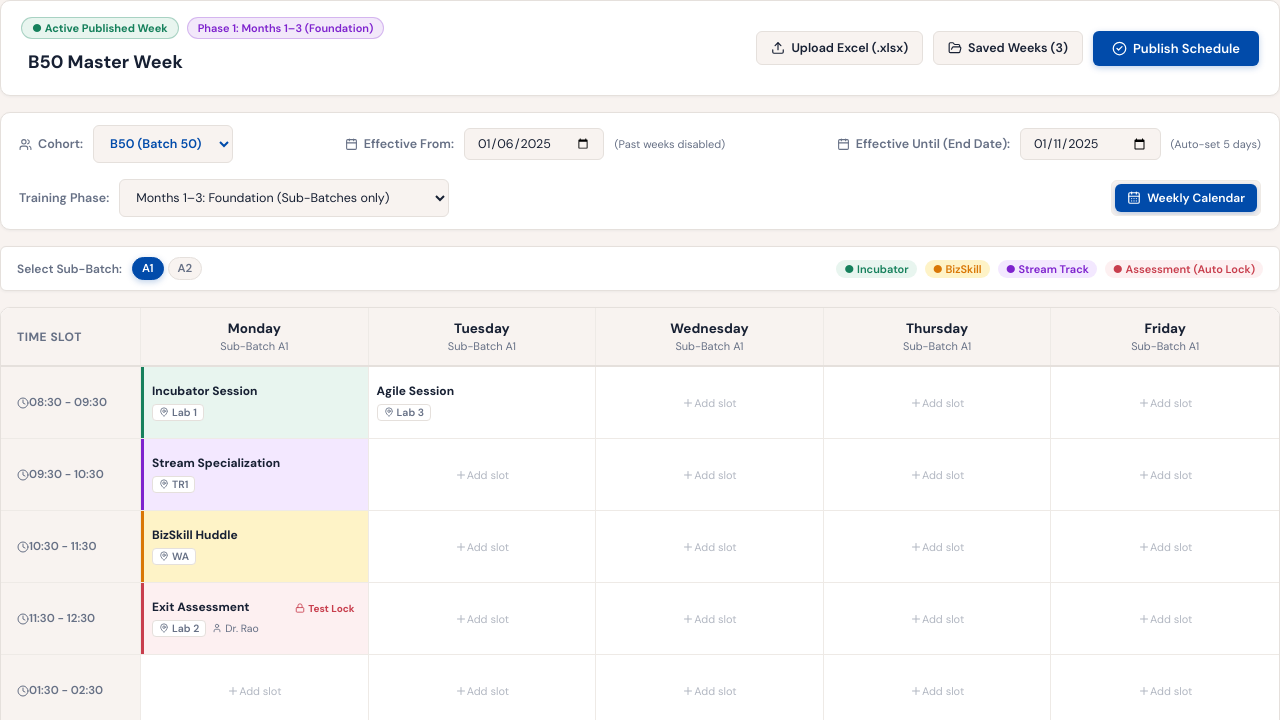
TimetableCalendarView - slot edit modal › closes the modal without changes when Cancel or the close icon is used
Expected: the field showing "B50 Master Week" is shown, [21,45,521,79]
Click the text "Incubator Session".
click(205, 392)  # box [152,384,258,400]
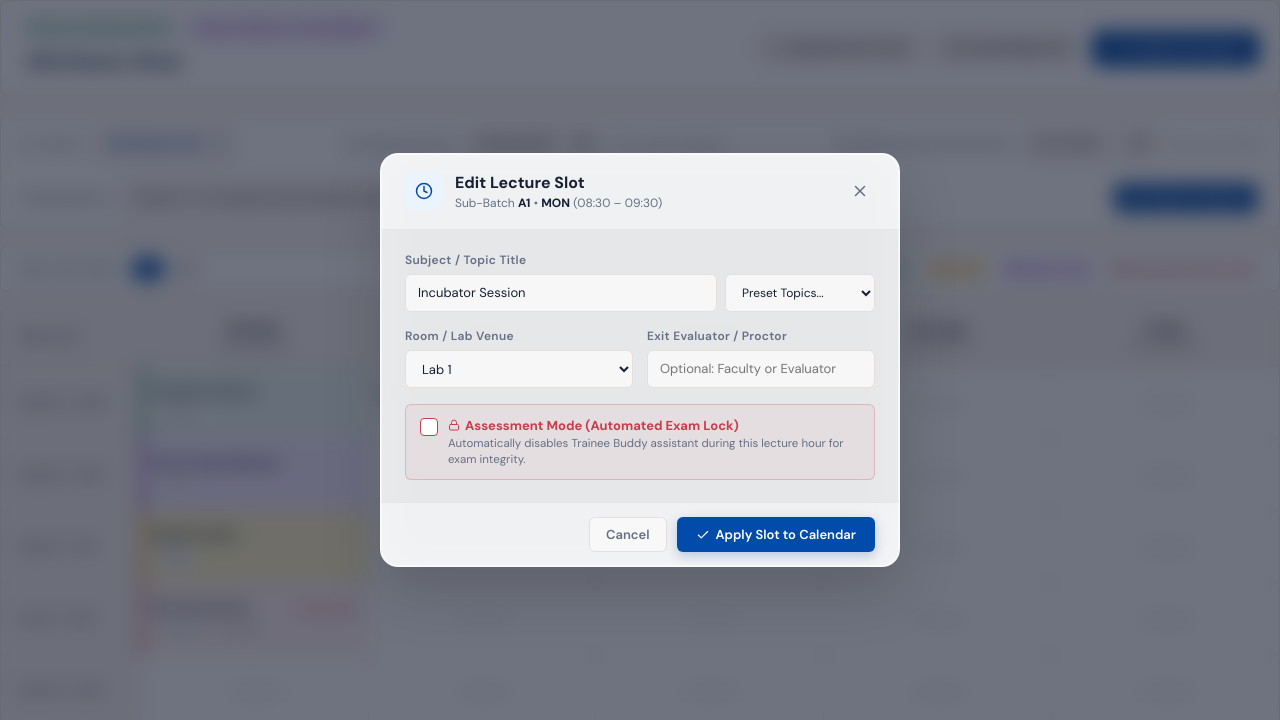
Click the button "Cancel".
click(628, 534)  # box [589,517,666,552]
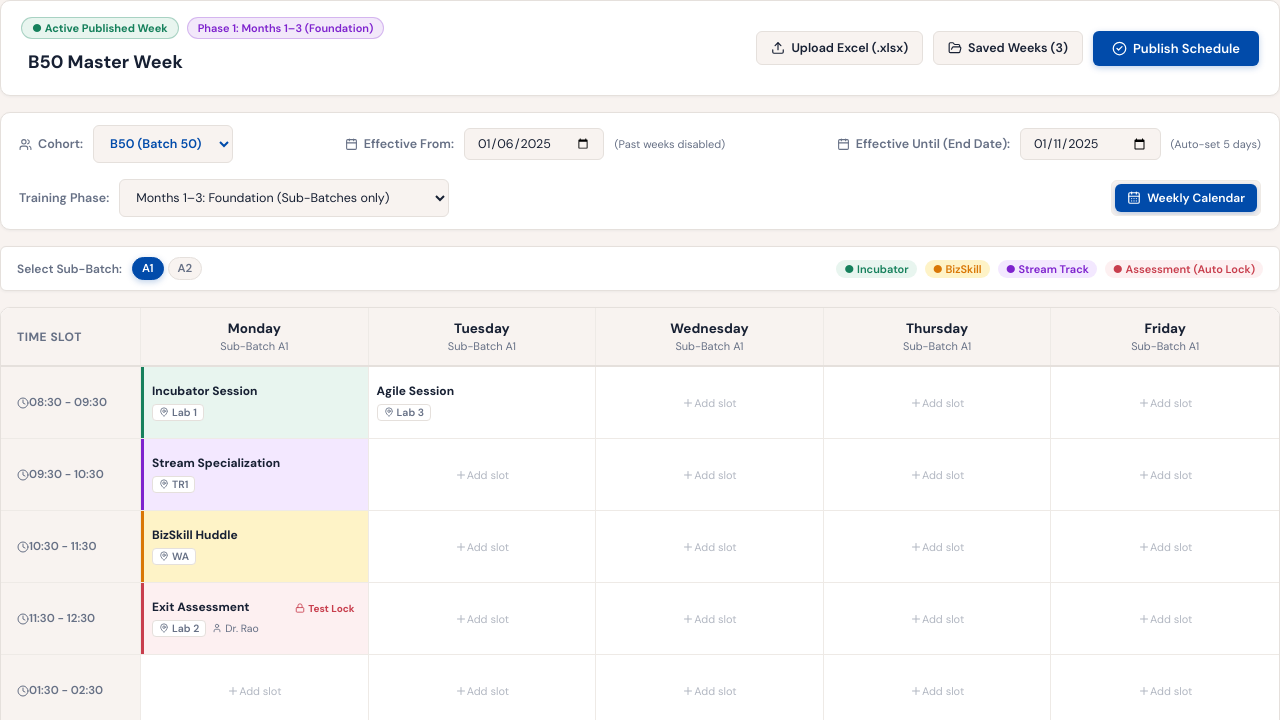
Result: the heading "Edit Lecture Slot" is gone
Click the text "Incubator Session".
click(205, 392)  # box [152,384,258,400]
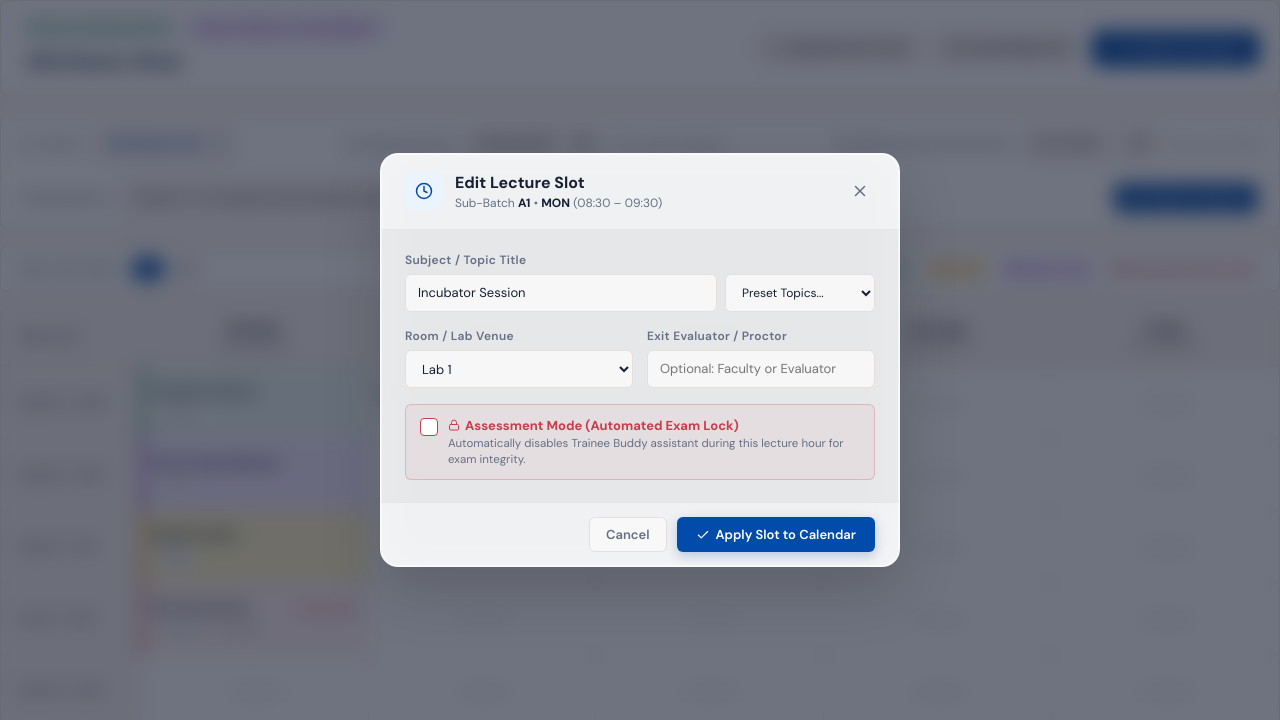
Click the button named "Close".
click(860, 192)  # box [845,176,875,206]
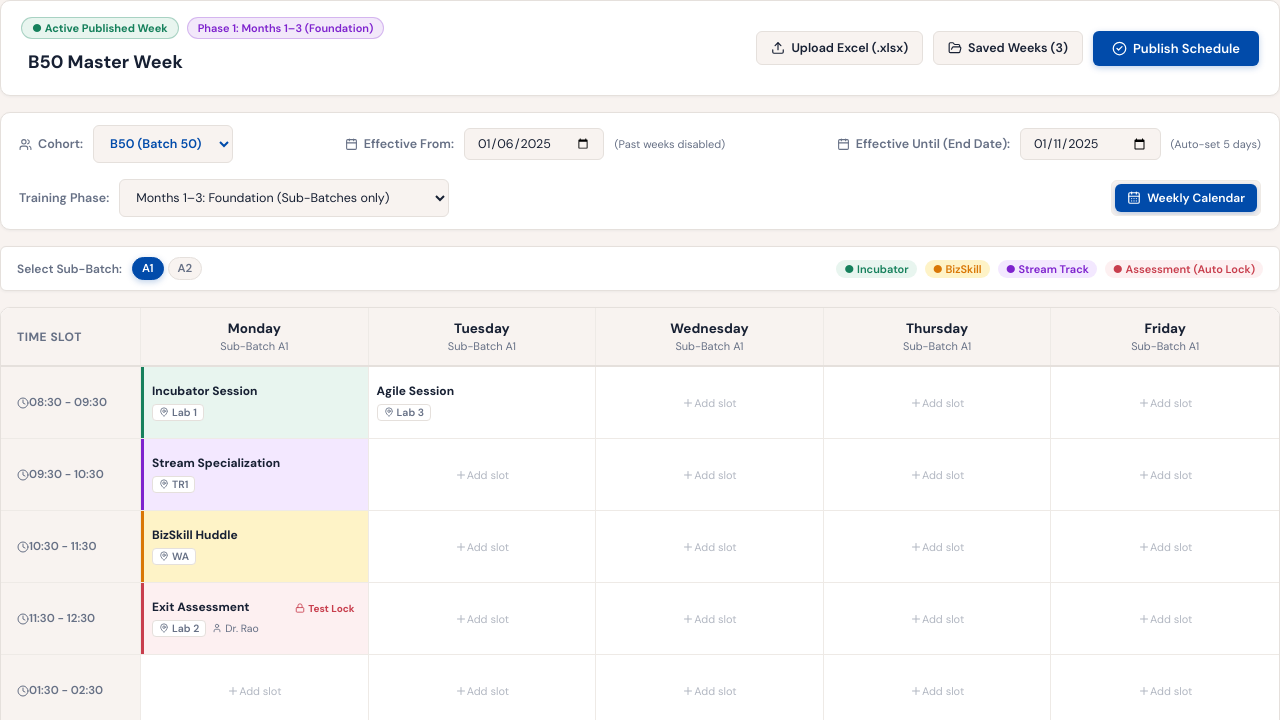
Expected: the text "Incubator Session" is shown, [152,384,258,400]
Result: the heading "Edit Lecture Slot" is gone
